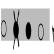correct: (26, 20, 32, 41)
not correct: (13, 9, 20, 50)
